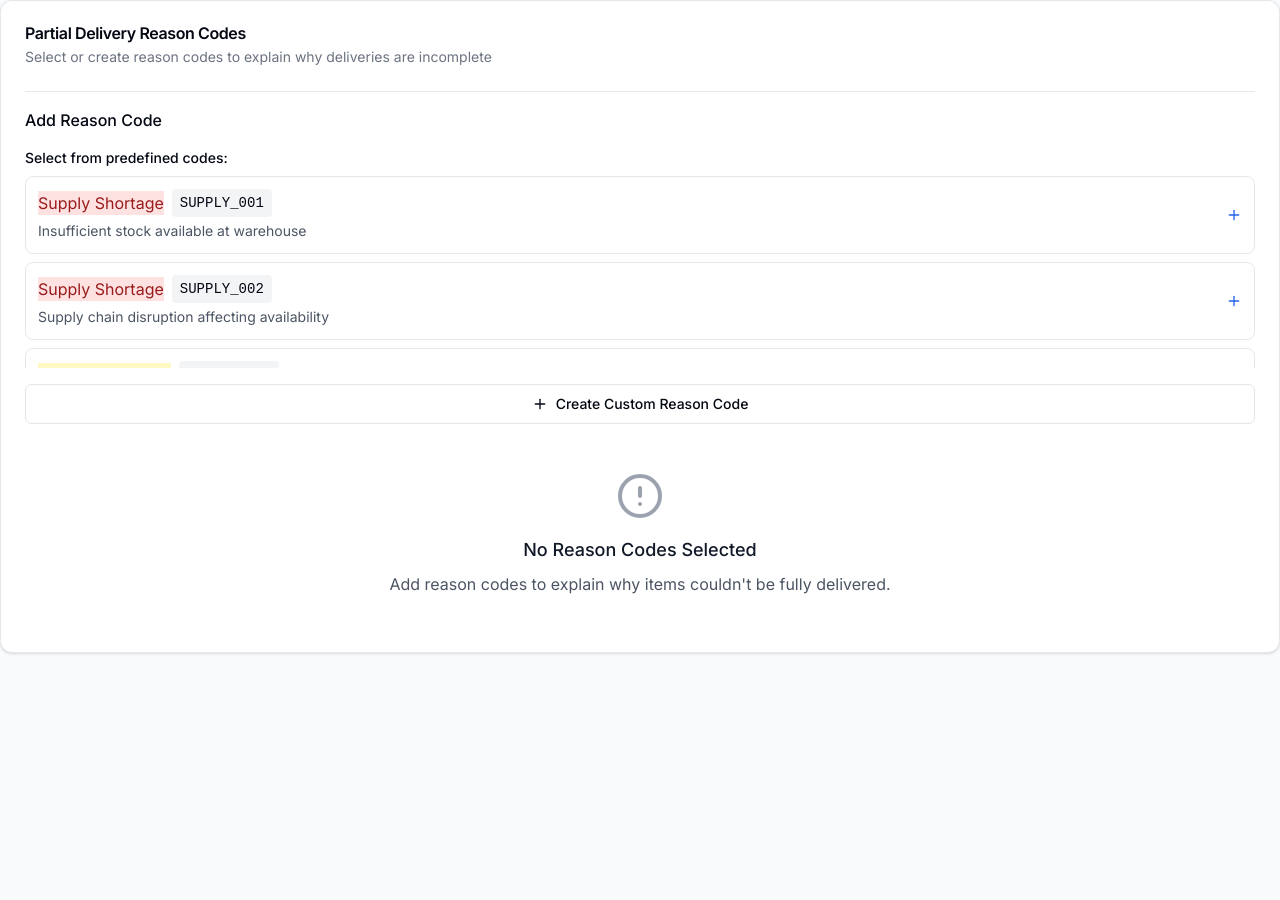
Test: ReasonCodeSelector › cancels custom reason code creation
# Open form
Click the button "Create Custom Reason Code" at (640, 404), box x1=25 y1=384 x2=1255 y2=424
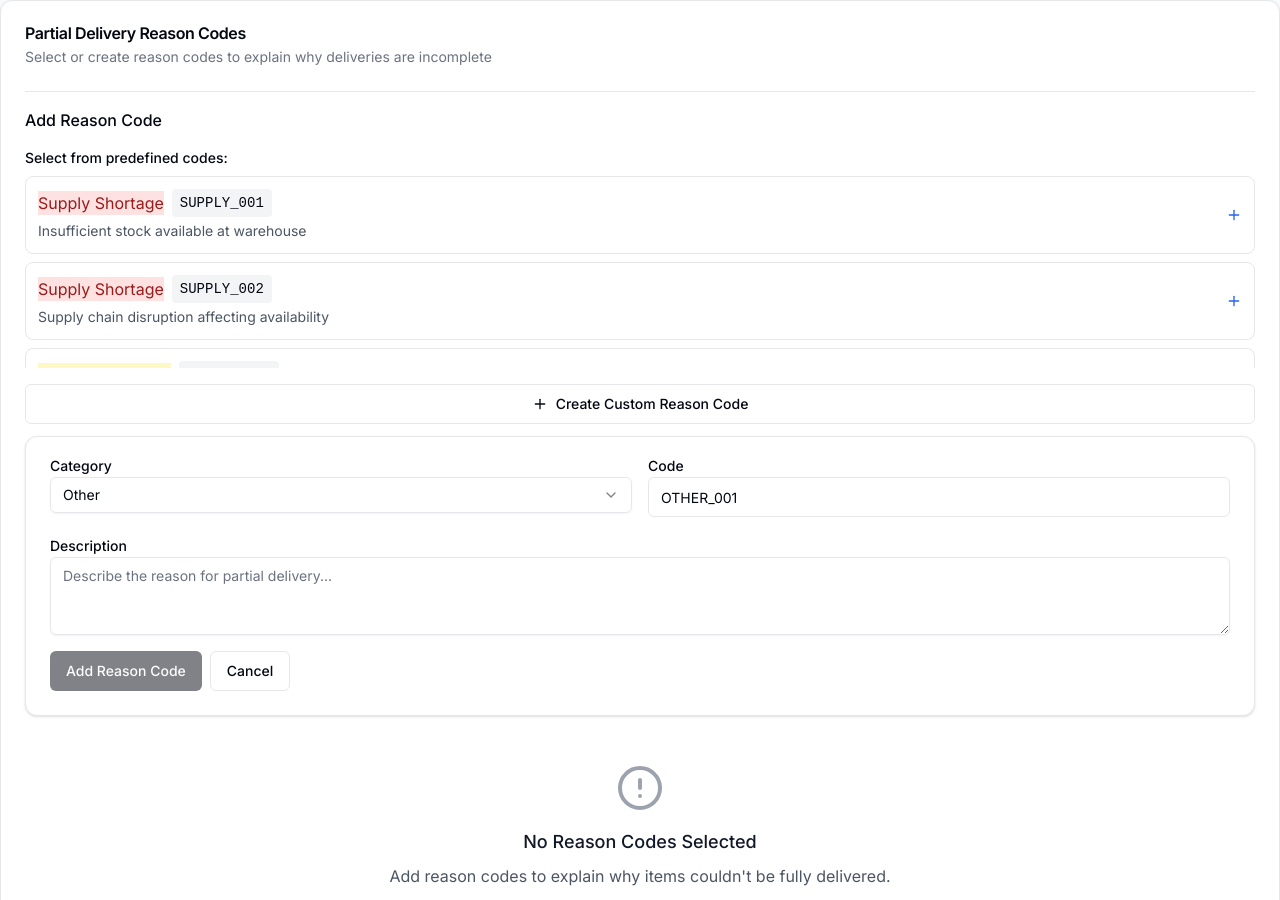
Click the button "Cancel" at (250, 671), box x1=210 y1=651 x2=290 y2=691
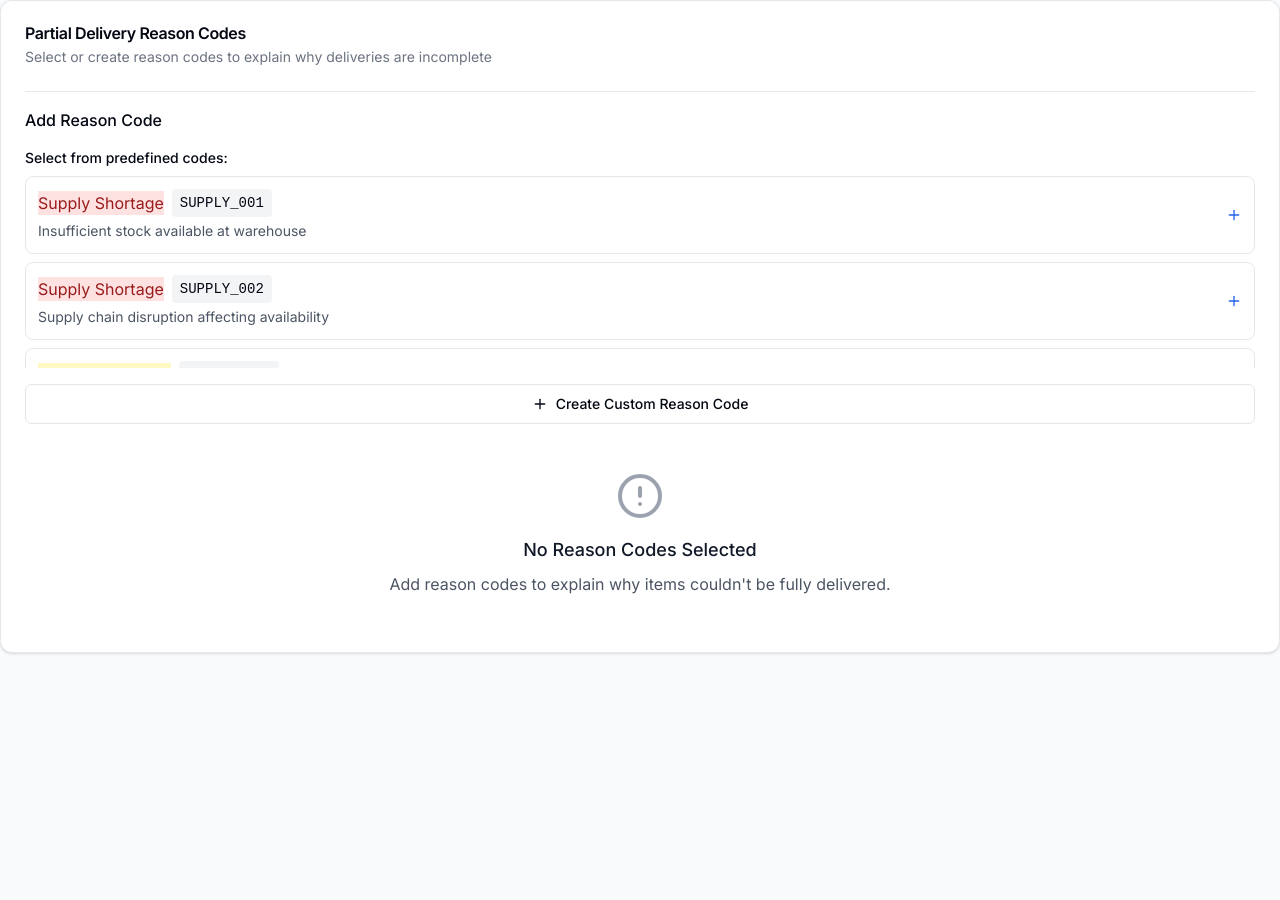
Result: the text "Category" is gone
